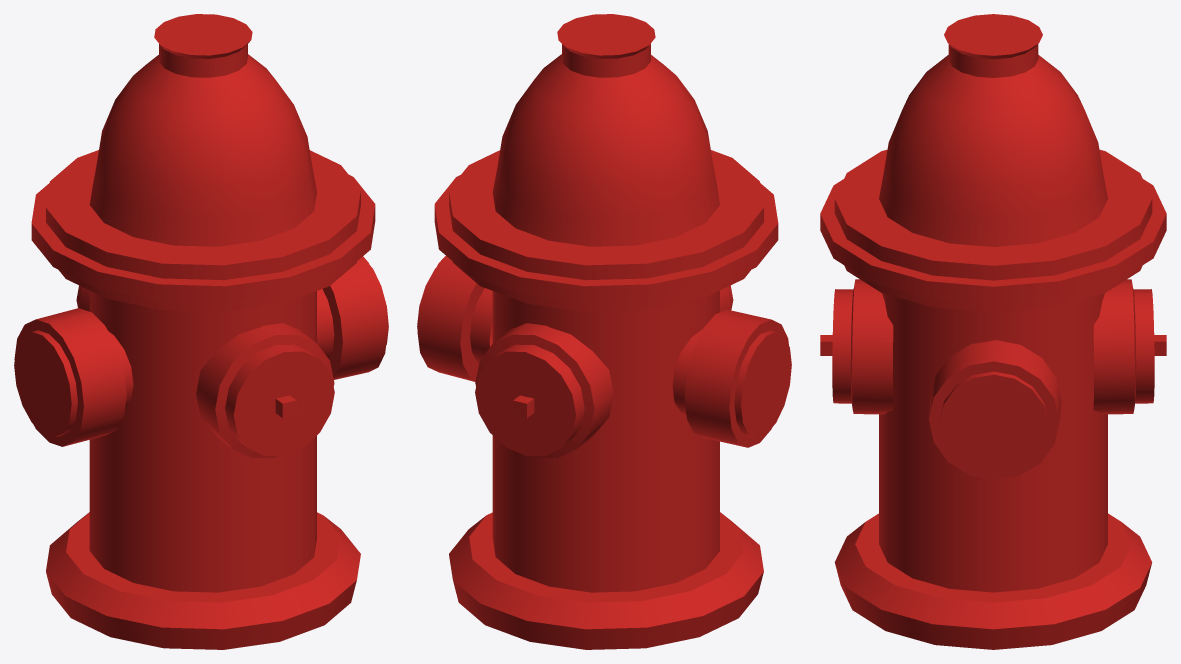
File: hydrant.fbx
3 views of the same model, side by side, from view 1: azimuth 30°, elevation 25°; view 2: azimuth 150°, elevation 25°; view 3: azimuth 270°, elevation 25° (orthographic).
Visible parts, largest first — view 1: Cylinder.044; view 2: Cylinder.044; view 3: Cylinder.044.
Boxes of the visible parts, x1,y1,x2,y2 form: Cylinder.044: (14, 14, 388, 649); Cylinder.044: (417, 14, 791, 649); Cylinder.044: (820, 14, 1166, 649).
Size of the model in its own units: 104 by 96.88 by 172.
